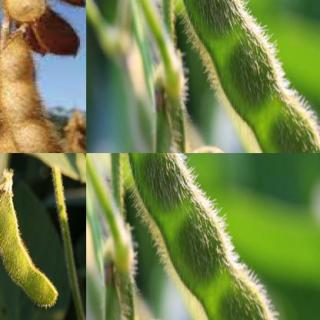soya: (126, 153, 284, 319), (176, 0, 319, 152), (0, 197, 59, 309), (0, 38, 57, 152), (2, 0, 46, 22)
